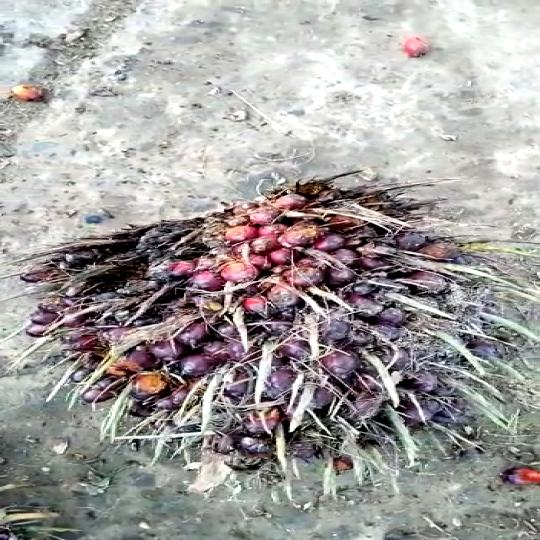masak: (25, 169, 540, 514)
